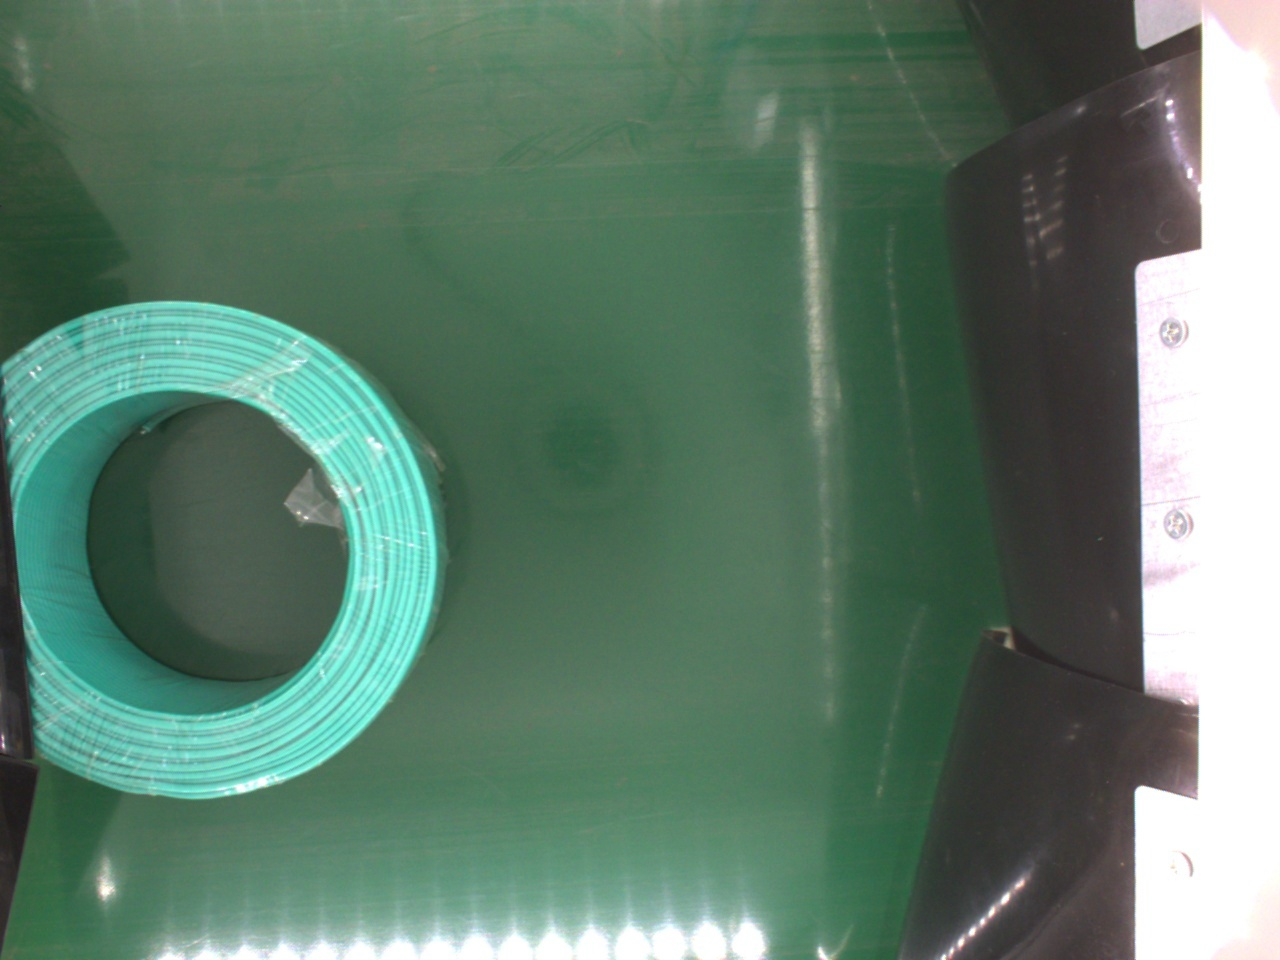green: (4, 297, 449, 806)
